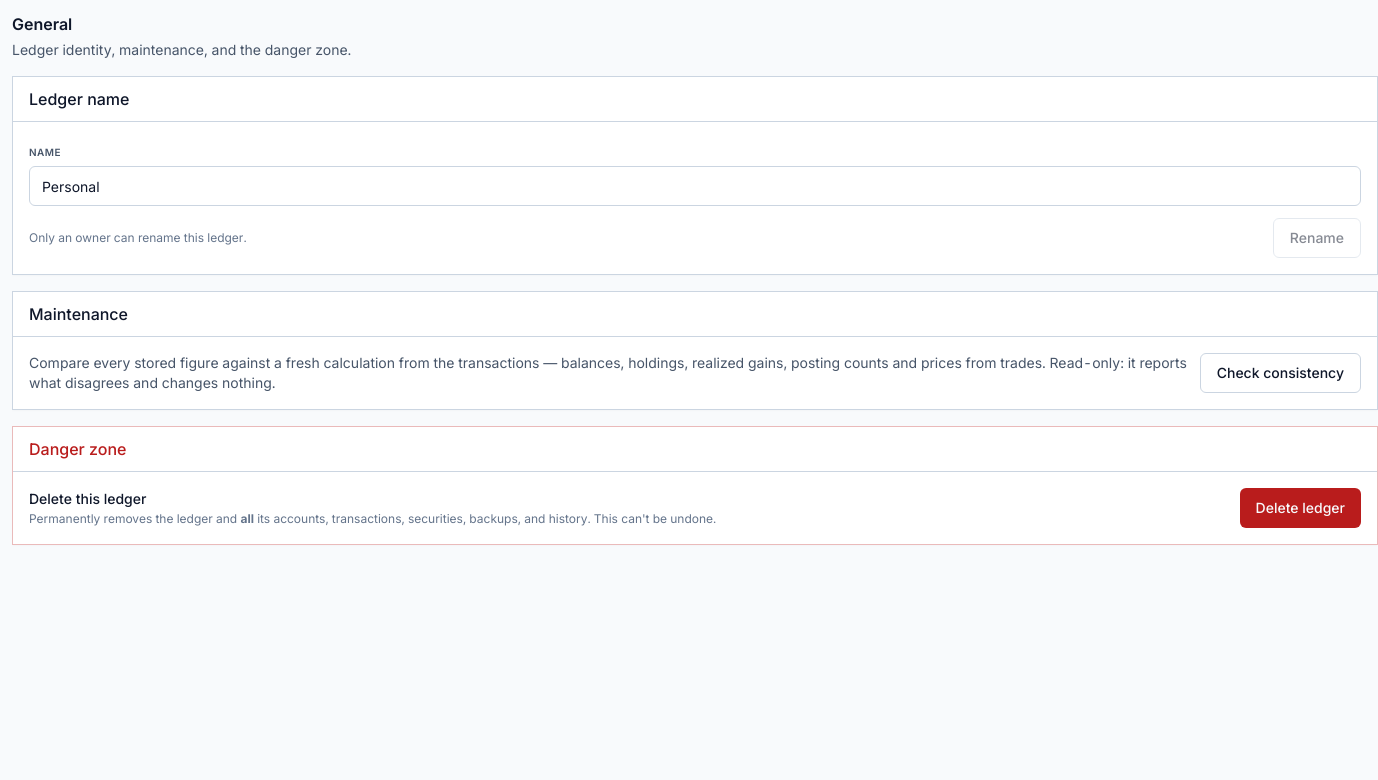
GeneralPanel — consistency maintenance › lists every disagreement and says what repair will do
Click the button "Check consistency" at (1280, 373), box [1200, 353, 1361, 393]
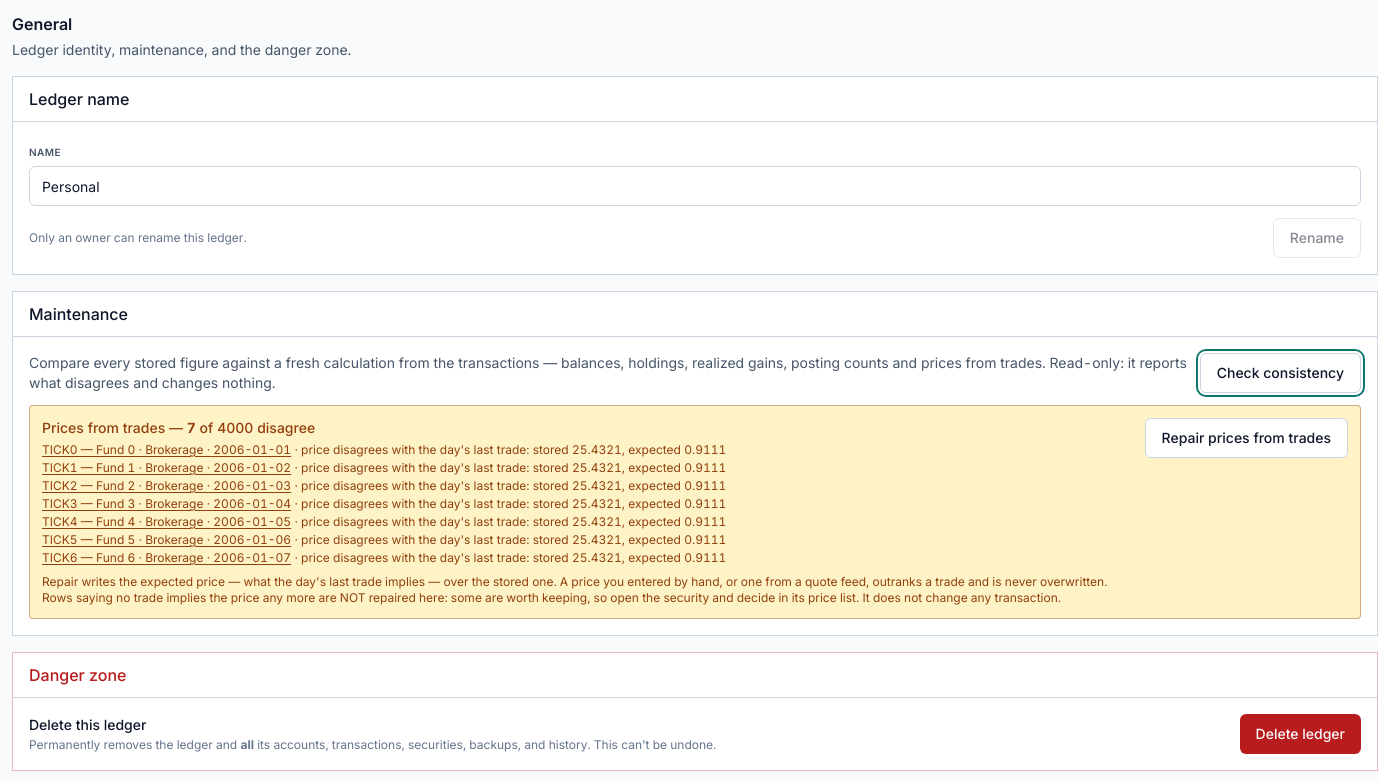
Expected: the list is shown, [42, 442, 726, 565]
Expected: the text "never overwritten" is shown, [42, 574, 1107, 605]
